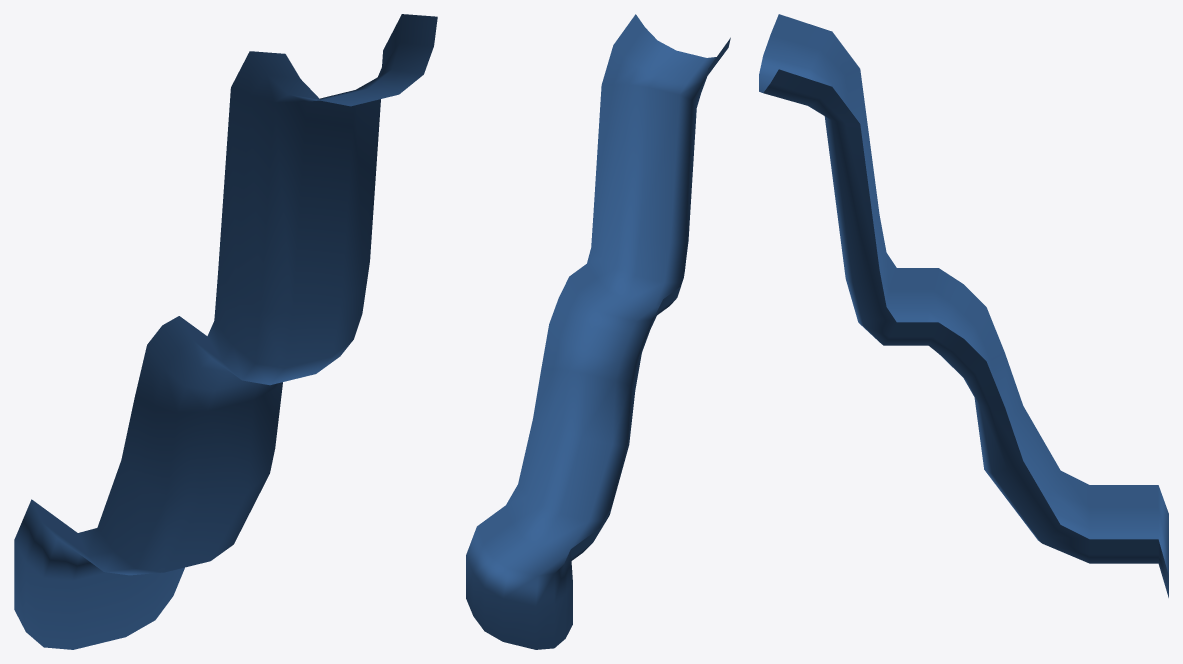
The model's file is Cachoeira.fbx.
The picture shows the model from 3 angles, left to right: view 1: azimuth 30°, elevation 25°; view 2: azimuth 150°, elevation 25°; view 3: azimuth 270°, elevation 25°; orthographic projection. The views are drawn at different scales.
Visible parts, largest first — view 1: polySurface11; view 2: polySurface11; view 3: polySurface11.
Part boxes in pixels (bbox=[...]): polySurface11: bbox=[14, 14, 437, 649]; polySurface11: bbox=[466, 14, 730, 649]; polySurface11: bbox=[759, 14, 1168, 597].
Bounding box in the file's own units: 12.78 × 57.16 × 35.65.
